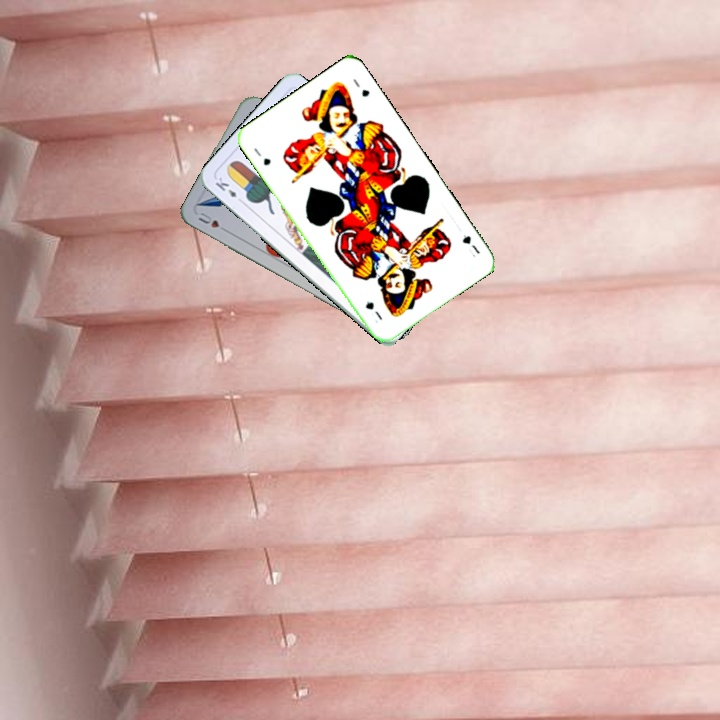EK: (211, 173, 246, 206)
GU: (458, 231, 483, 260), (249, 144, 273, 168)
HU: (194, 208, 231, 235)
